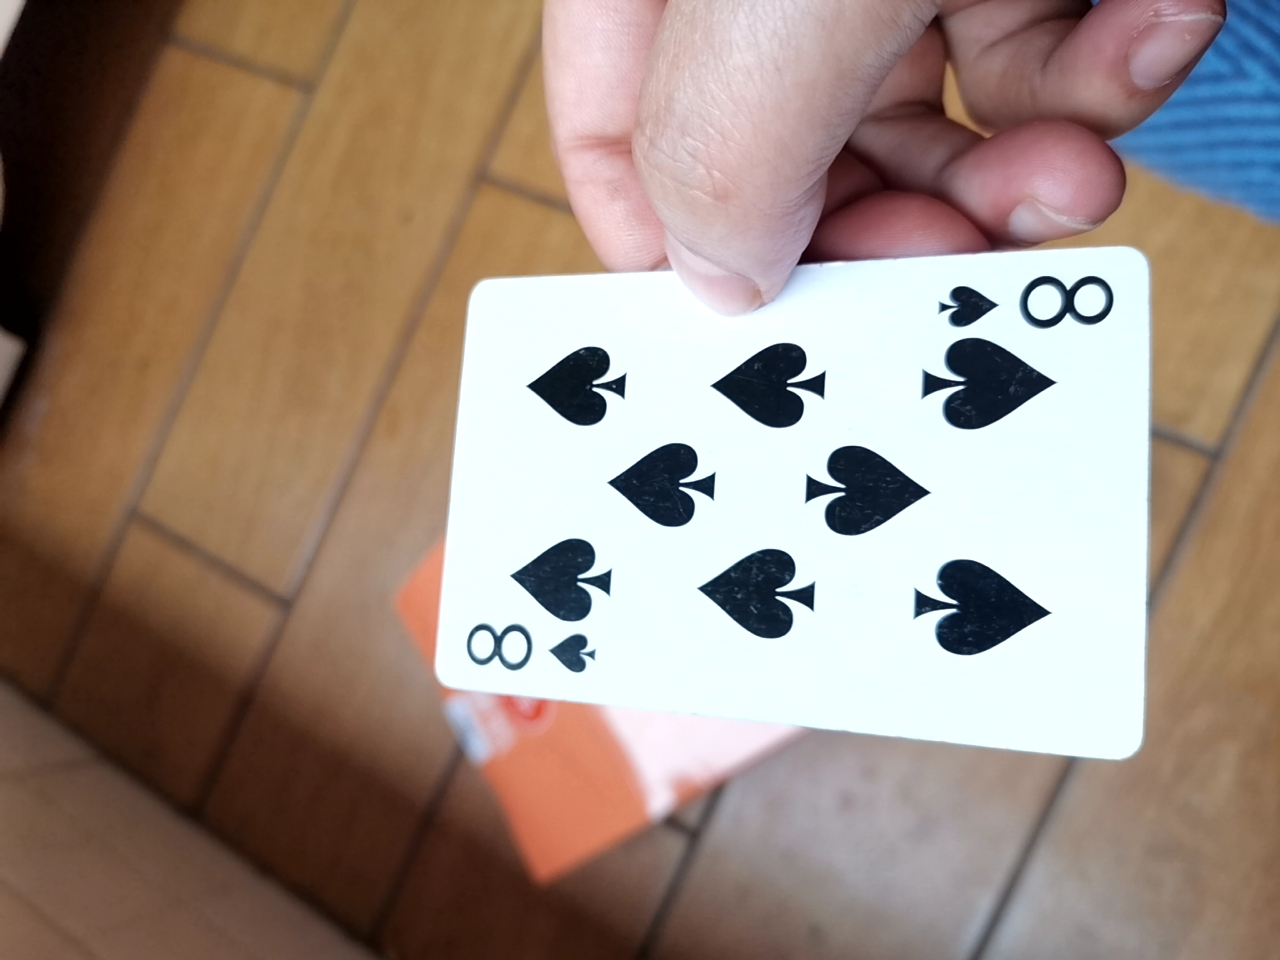ht 8: (403, 245, 1151, 782)
